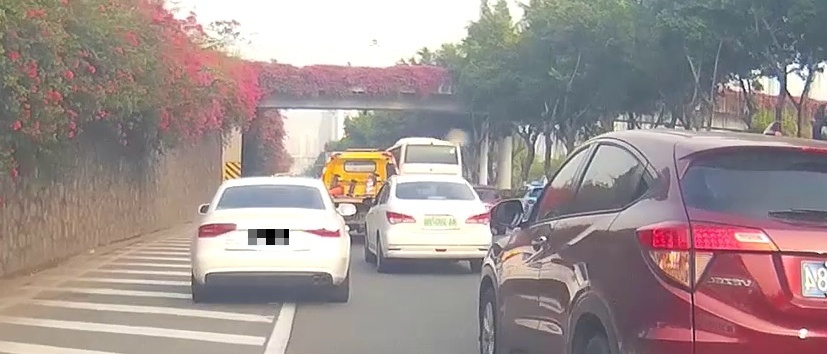L_light: (197, 223, 237, 238), (386, 211, 416, 225)
R_light: (301, 227, 341, 238), (465, 212, 491, 226)
T_light: (259, 185, 287, 188), (427, 196, 447, 200)
day-no: (190, 177, 351, 302), (383, 175, 492, 273)
plate_1: (248, 229, 289, 245)
